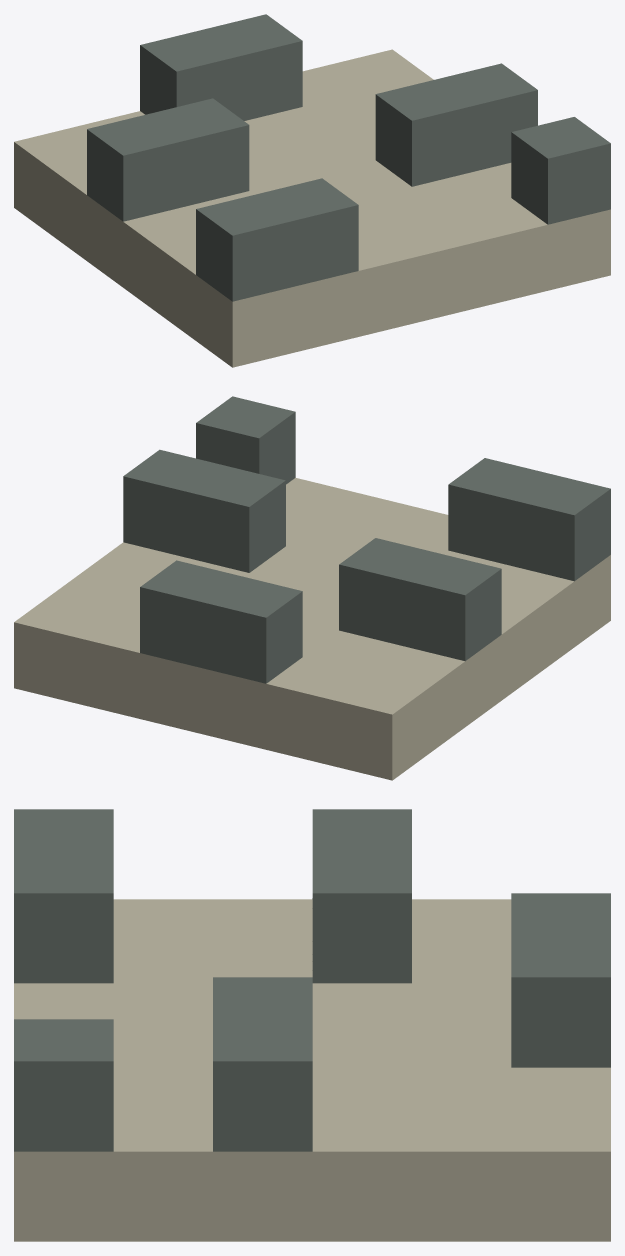
The picture shows the model from 3 angles, top to bottom: view 1: azimuth 30°, elevation 25°; view 2: azimuth 150°, elevation 25°; view 3: azimuth 270°, elevation 25°; orthographic projection. The views are drawn at different scales.
Visible parts, largest first — view 1: 5.2; view 2: 5.2; view 3: 5.2.
Boxes of the visible parts, <box> form: 5.2: <box>14,14,610,367</box>; 5.2: <box>14,396,610,780</box>; 5.2: <box>14,809,610,1241</box>.
Bounding box in the file's own units: 600 × 200 × 600.
